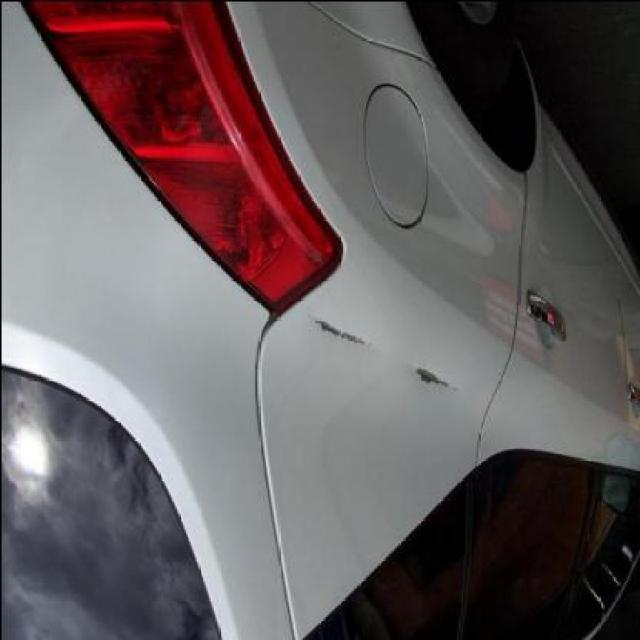damage: (410, 358, 462, 394), (315, 318, 371, 349)
